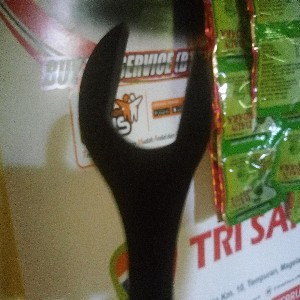spanner: (77, 21, 216, 300)
